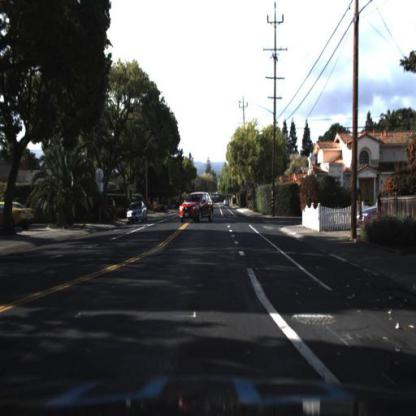car: (176, 191, 216, 226), (2, 199, 36, 233), (124, 195, 151, 227)
